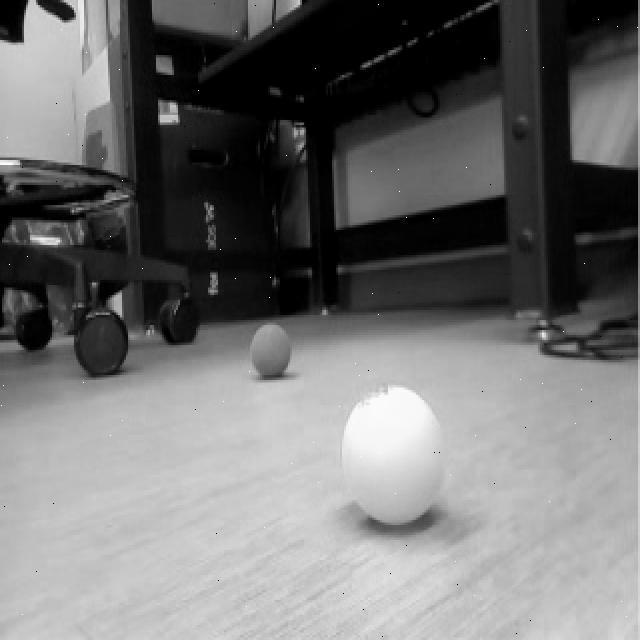ping-pong-ball: (336, 380, 454, 530), (246, 318, 294, 380)
